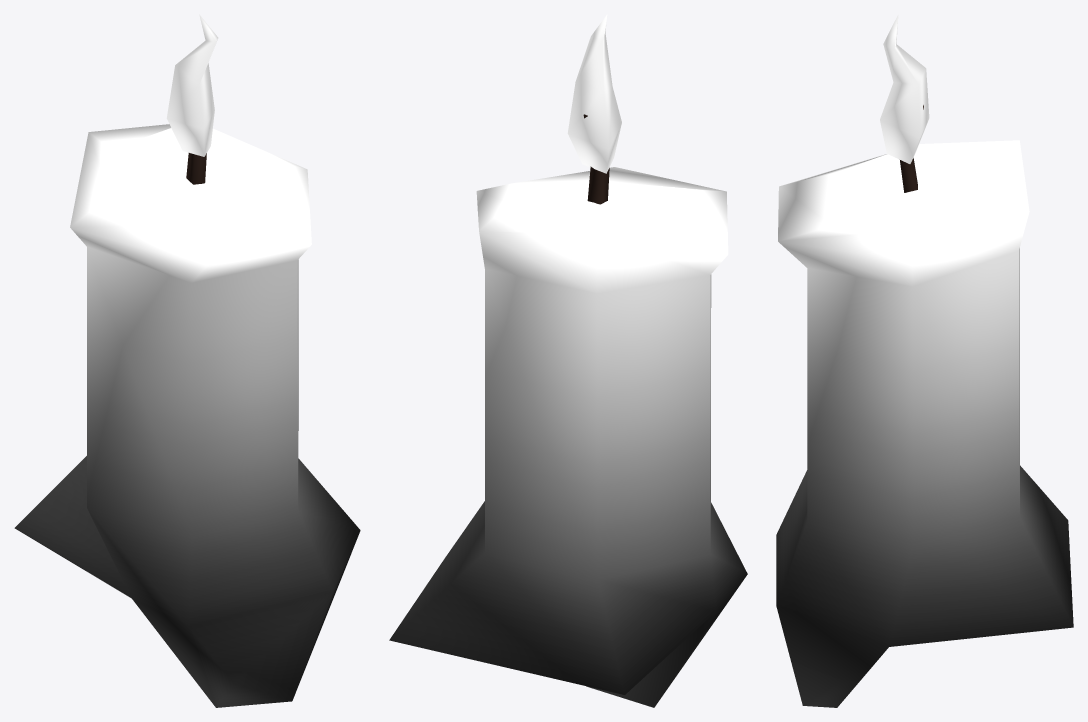
The model's file is CandleShapeE.026.glb.
3 renders of one model, left to right at view 1: azimuth 30°, elevation 25°; view 2: azimuth 150°, elevation 25°; view 3: azimuth 270°, elevation 25°, orthographic. The views are drawn at different scales.
Parts seen in each view (by area): view 1: CandleShapeE.026; view 2: CandleShapeE.026; view 3: CandleShapeE.026.
Part boxes in pixels (box(x1,y1,x2,y2)): CandleShapeE.026: box(14, 14, 360, 707); CandleShapeE.026: box(389, 14, 747, 707); CandleShapeE.026: box(776, 15, 1073, 707).
Size of the model in its own units: 0.1424 by 0.327 by 0.1308.
2 materials, 2 textured.
